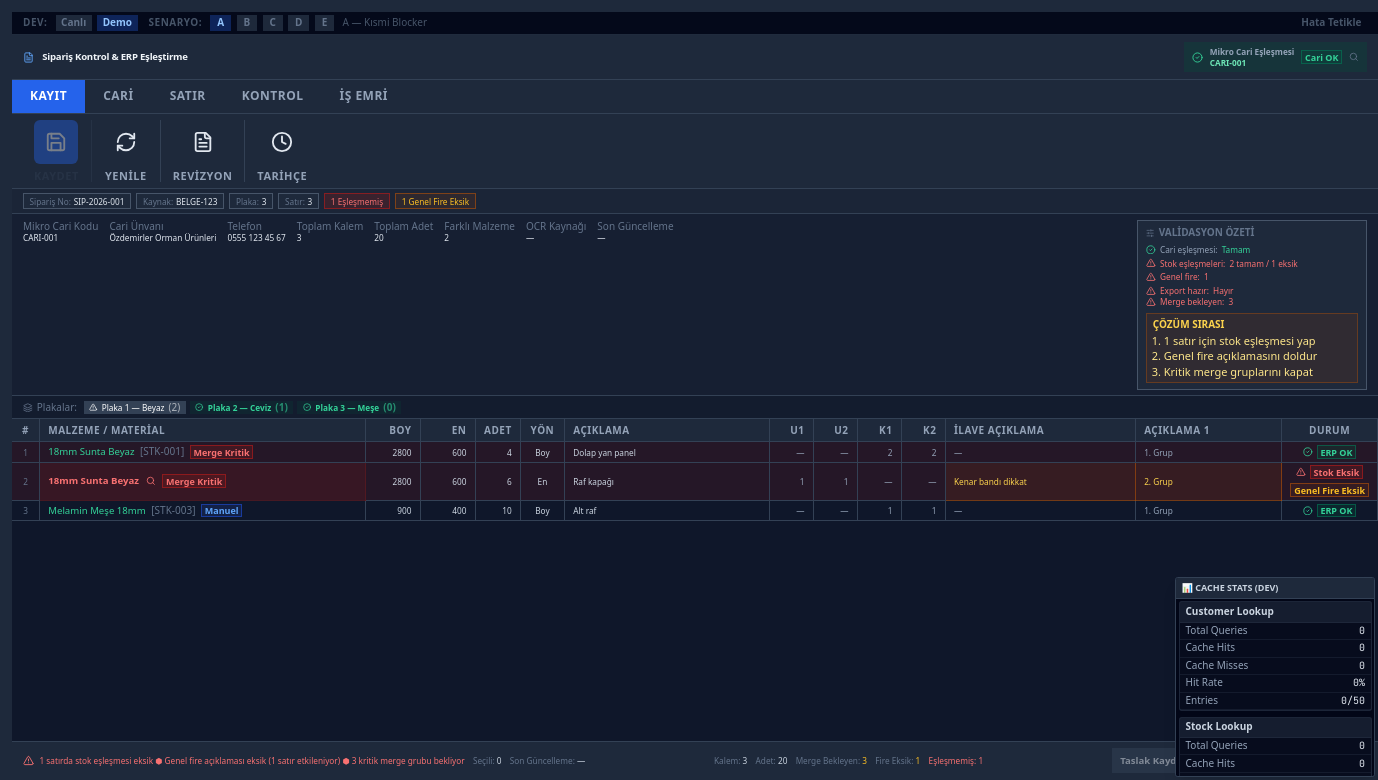
it: SiparisKontrolPage › Senaryo B'de header danger state (cari unmatched)
The width and height of the screenshot is (1378, 780).
Click the button "B".
click(247, 23)  # box [236,15,257,31]
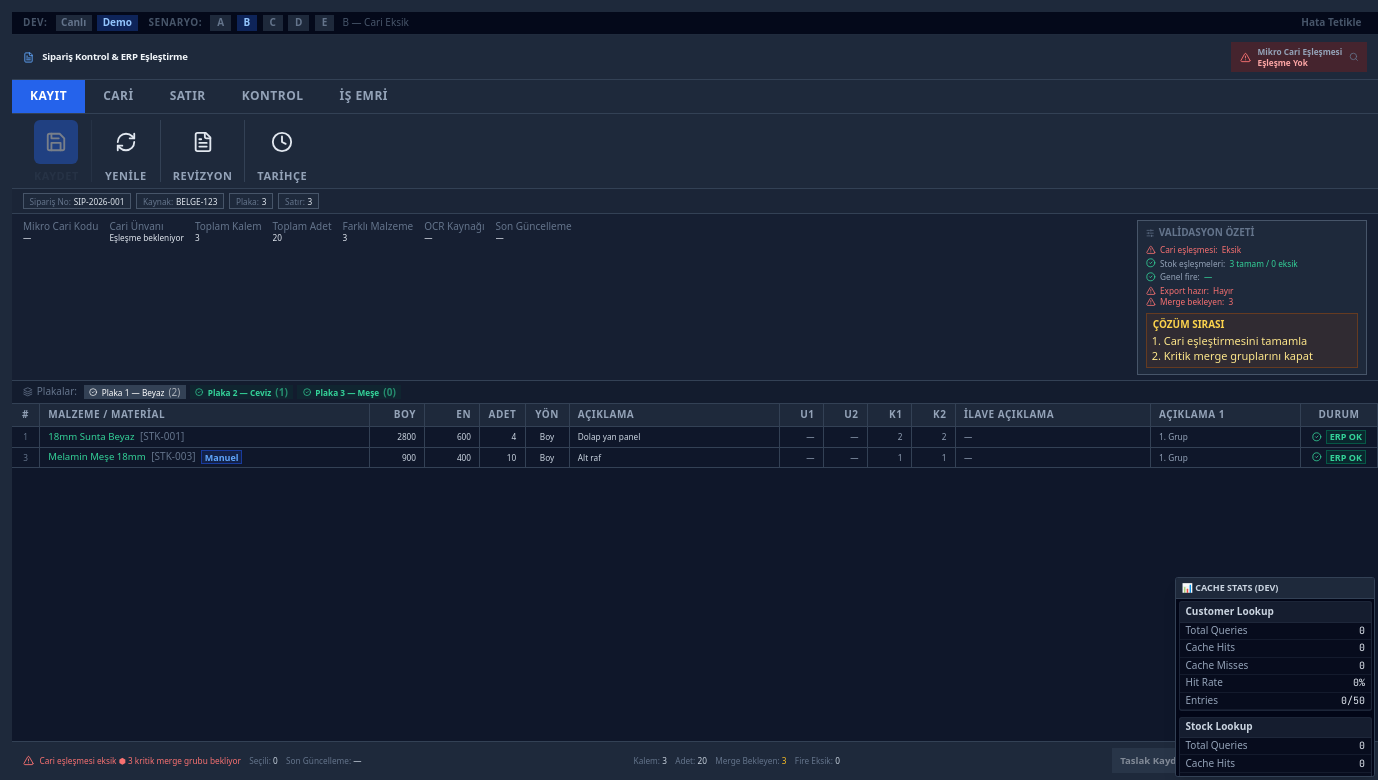
Check: the text "Eşleşme Yok" is shown, box [1258,57,1308,68]
Check: the text "Cari eşleşmesi eksik ⬢ 3 kritik merge grubu bekliyor" is shown, box [40,755,241,766]
